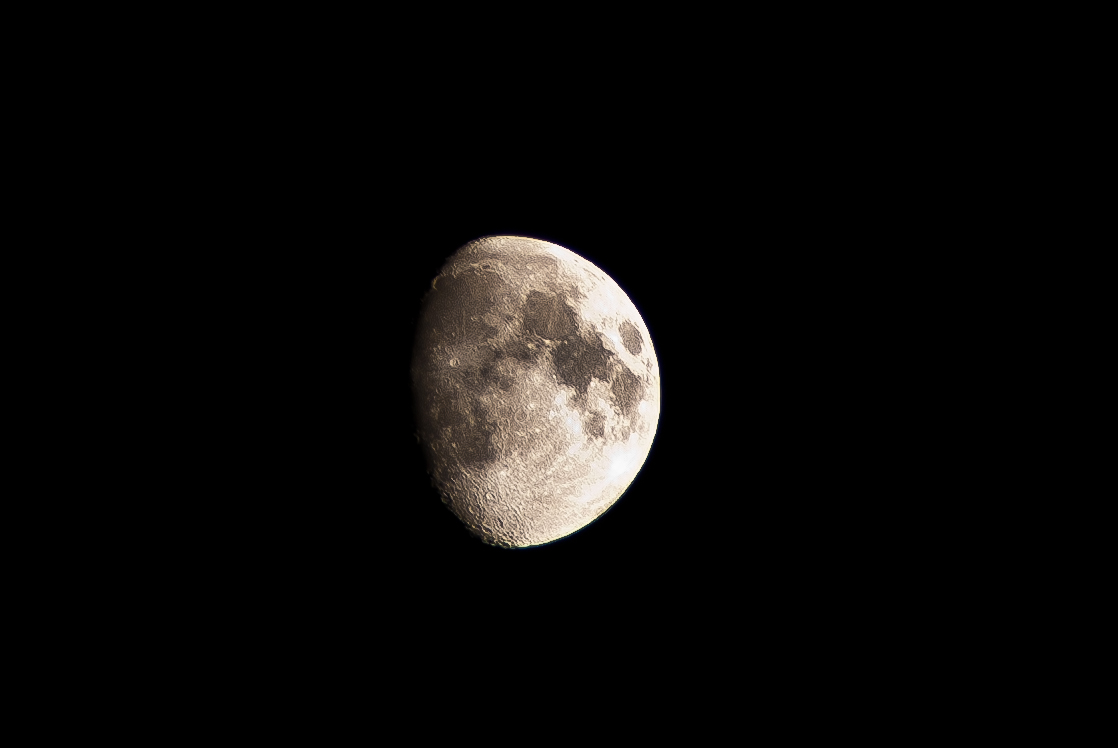crater: (475, 479, 508, 510), (442, 351, 467, 375), (509, 406, 532, 425), (476, 255, 499, 274)
